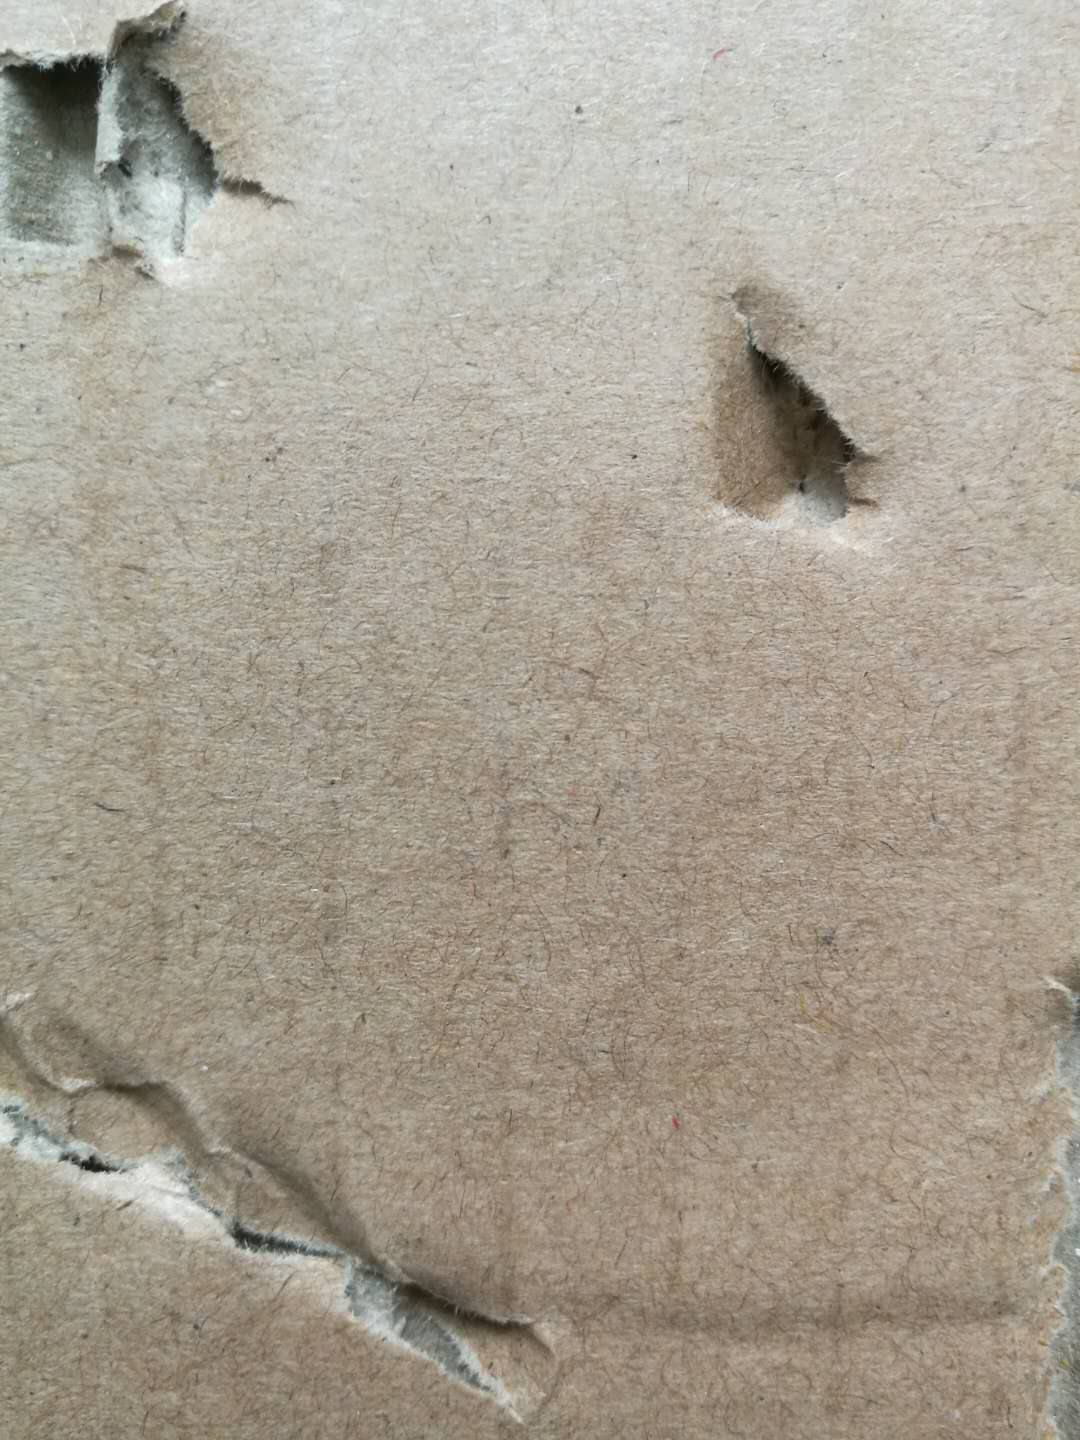defect: (1, 938, 643, 1439), (5, 2, 358, 381), (668, 242, 965, 610), (950, 922, 1080, 1440), (559, 1257, 1037, 1382)
